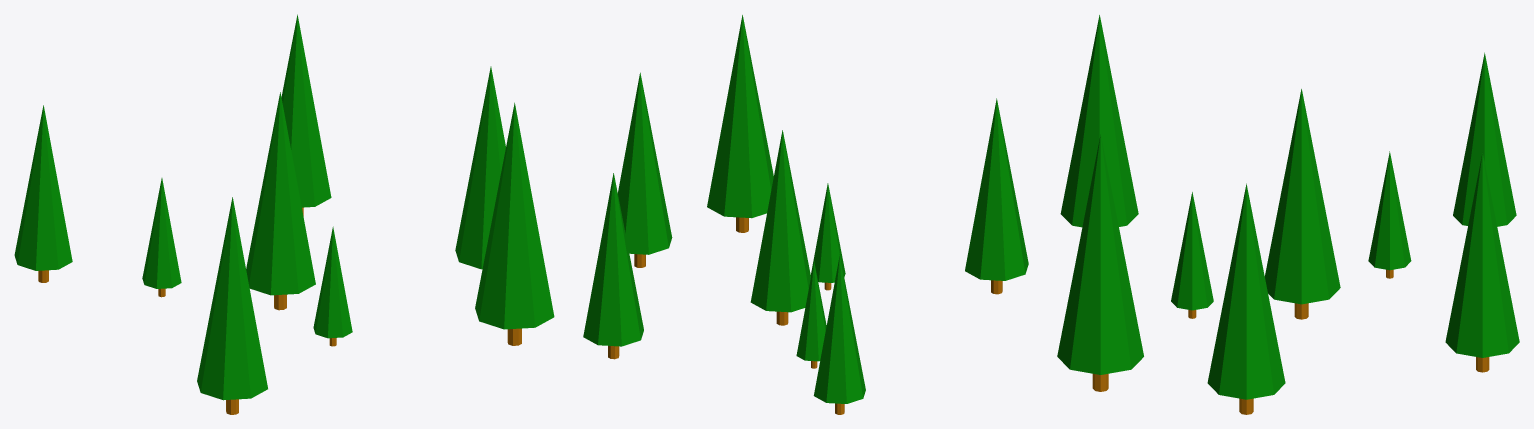
Rendered from Tree 2 Group.fbx.
3 renders of one model, left to right at view 1: azimuth 30°, elevation 25°; view 2: azimuth 150°, elevation 25°; view 3: azimuth 270°, elevation 25°, orthographic. The views are drawn at different scales.
Parts seen in each view (by area): view 1: Tree 2 Group; view 2: Tree 2 Group; view 3: Tree 2 Group.
Boxes of the visible parts, <box> form: Tree 2 Group: <box>14,14,554,414</box>; Tree 2 Group: <box>583,15,1028,414</box>; Tree 2 Group: <box>1057,15,1519,414</box>.
Size of the model in its own units: 1353 by 792 by 1303.
